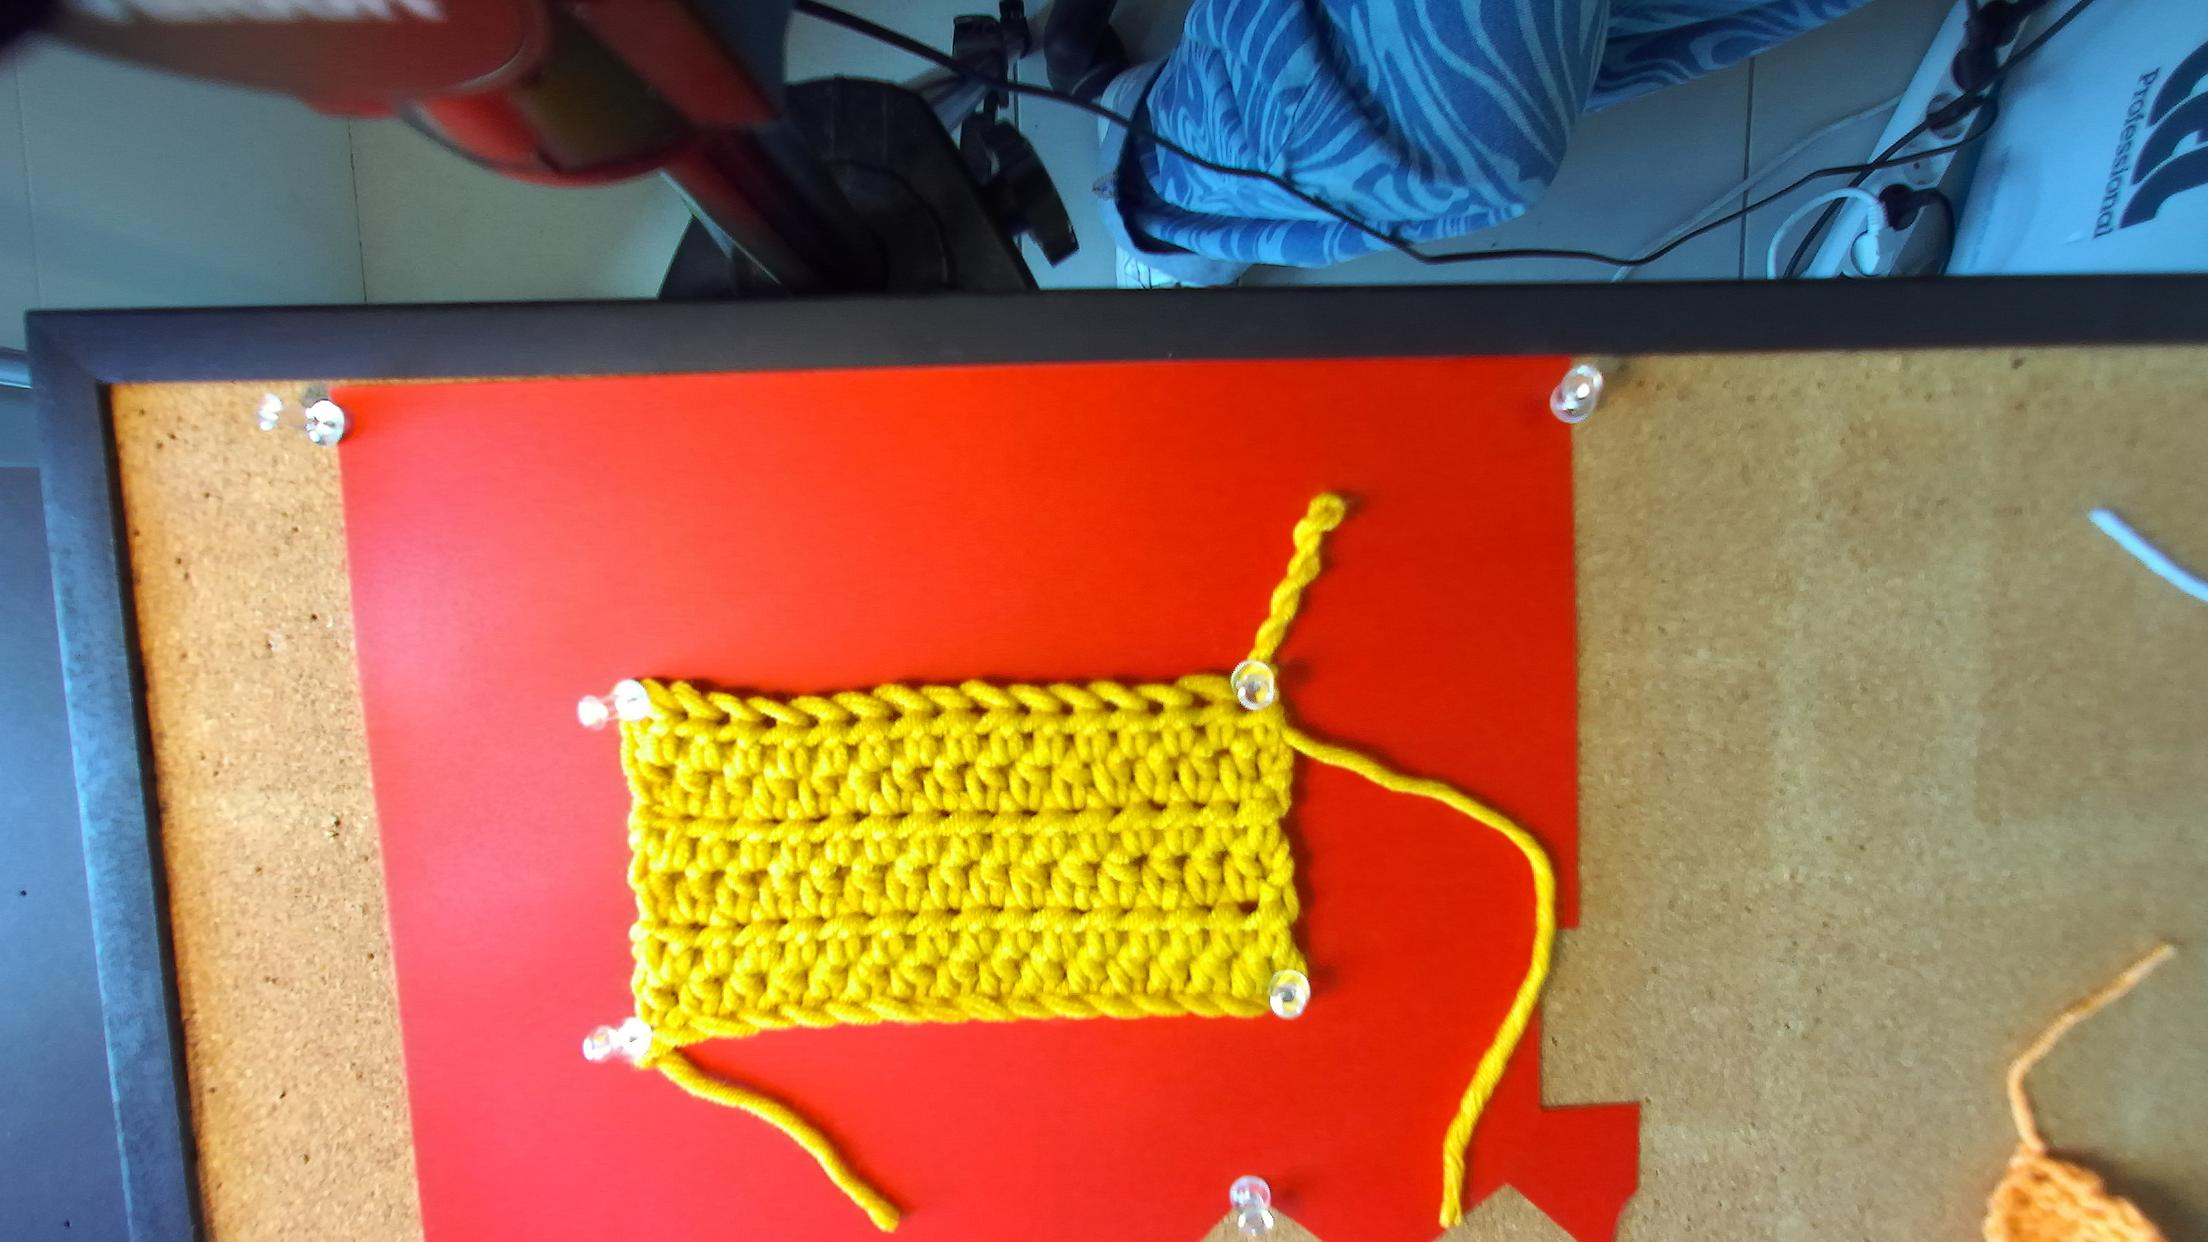hole: (1188, 693, 1215, 710), (966, 700, 991, 718), (885, 704, 904, 723), (1233, 698, 1251, 716), (1146, 700, 1164, 717), (757, 714, 777, 729), (712, 713, 731, 728), (802, 713, 820, 728), (1015, 701, 1032, 716), (843, 712, 860, 726), (929, 704, 945, 718), (1103, 700, 1120, 713), (1059, 703, 1075, 716), (676, 708, 689, 722)
swatch: (610, 664, 1314, 1052)
